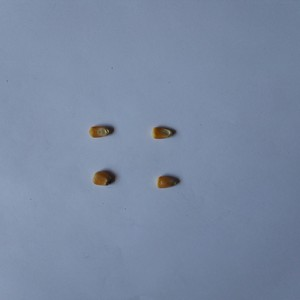maiz: (156, 172, 179, 191), (91, 170, 115, 187), (151, 125, 174, 141), (89, 124, 111, 139)
